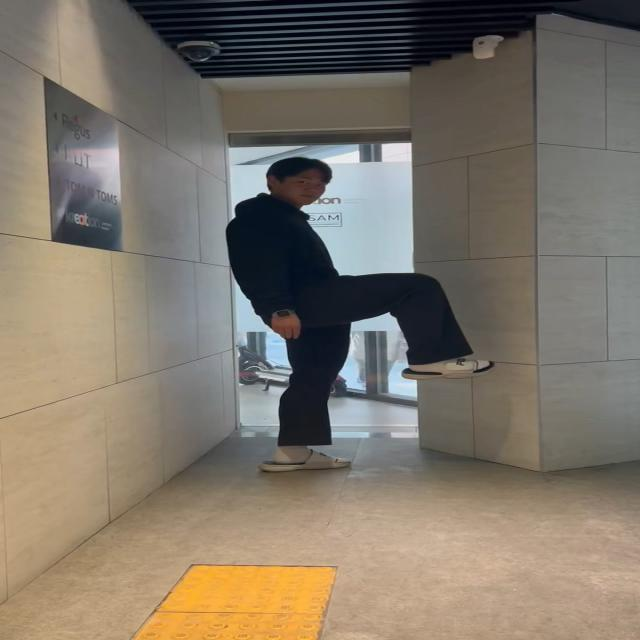knee: (339, 273, 487, 376)
